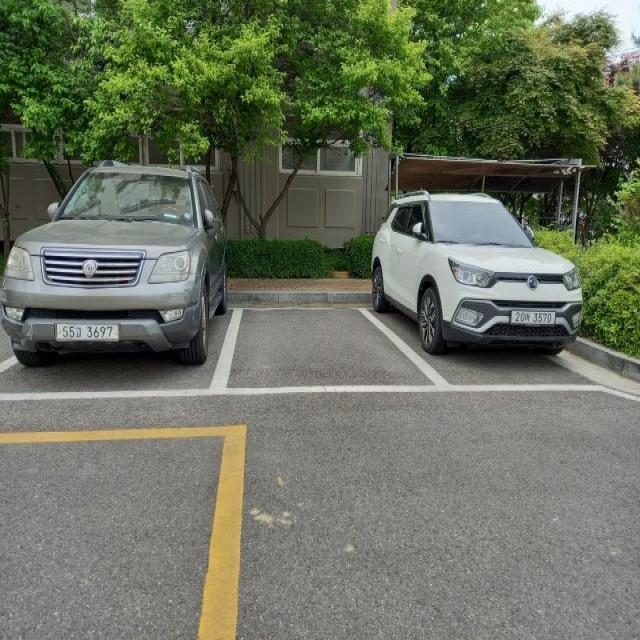Car: (0, 159, 225, 385), (369, 188, 592, 366)
Vacant: (208, 305, 453, 397)
